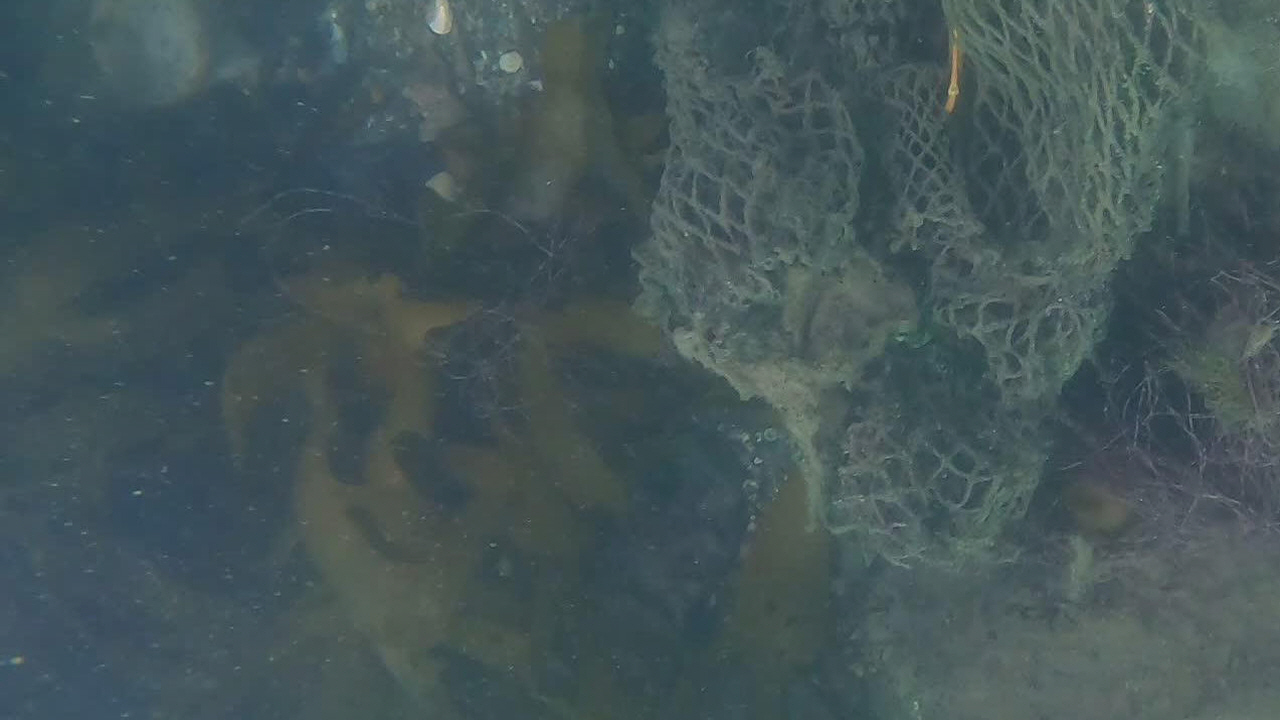fish net: (635, 2, 1205, 570)
